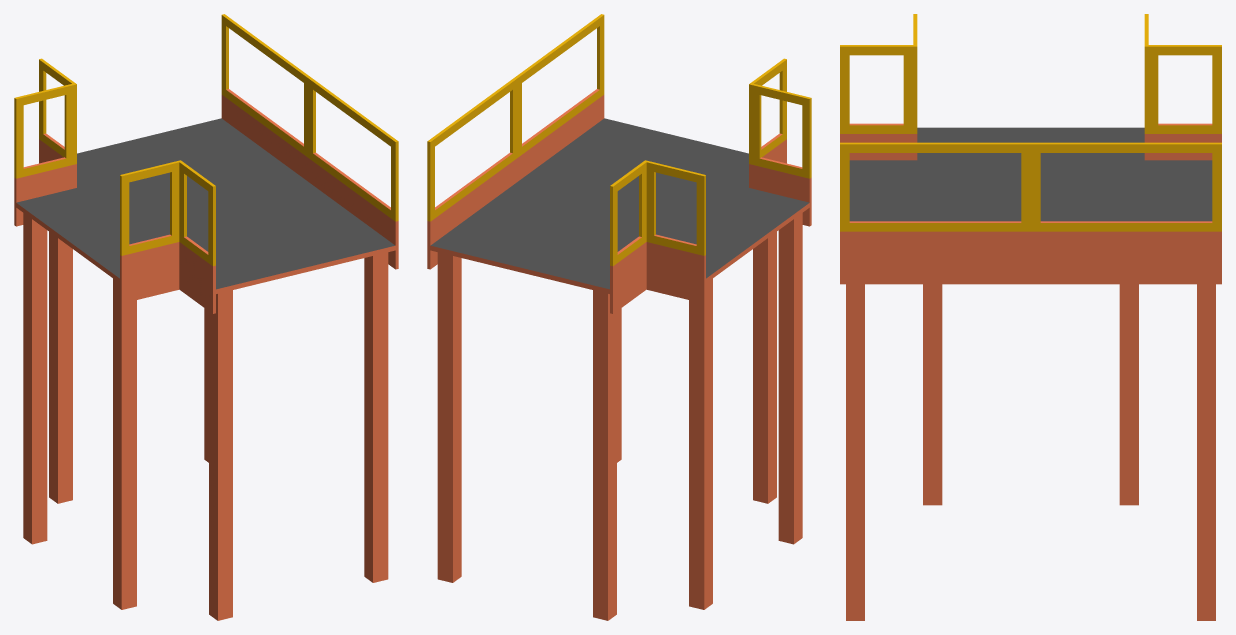
The model's file is Prop_Industrial_Platform_Walkway_Narrow_Intersection_01.FBX.
3 views of the same model, side by side, from view 1: azimuth 30°, elevation 25°; view 2: azimuth 150°, elevation 25°; view 3: azimuth 270°, elevation 25° (orthographic). The views are drawn at different scales.
Visible parts, largest first — view 1: Prop_Industrial_Platform_Walkway_Narrow_Intersection_01; view 2: Prop_Industrial_Platform_Walkway_Narrow_Intersection_01; view 3: Prop_Industrial_Platform_Walkway_Narrow_Intersection_01.
Part boxes in pixels (x1,y1,x2,y2): Prop_Industrial_Platform_Walkway_Narrow_Intersection_01: [14, 14, 398, 620]; Prop_Industrial_Platform_Walkway_Narrow_Intersection_01: [427, 14, 811, 620]; Prop_Industrial_Platform_Walkway_Narrow_Intersection_01: [840, 14, 1221, 620].
Size of the model in its own units: 3200 by 5500 by 3960.
